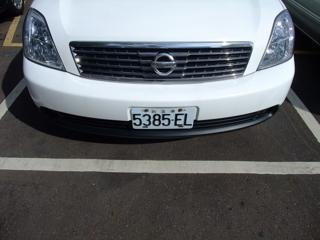plate: (129, 105, 196, 132)
